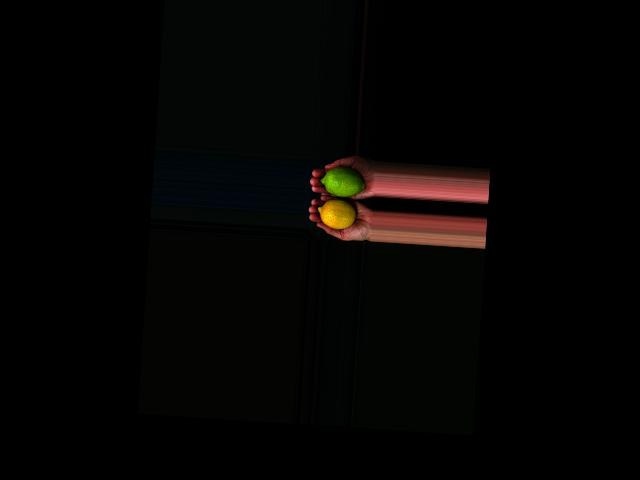lemon: (317, 197, 358, 229)
